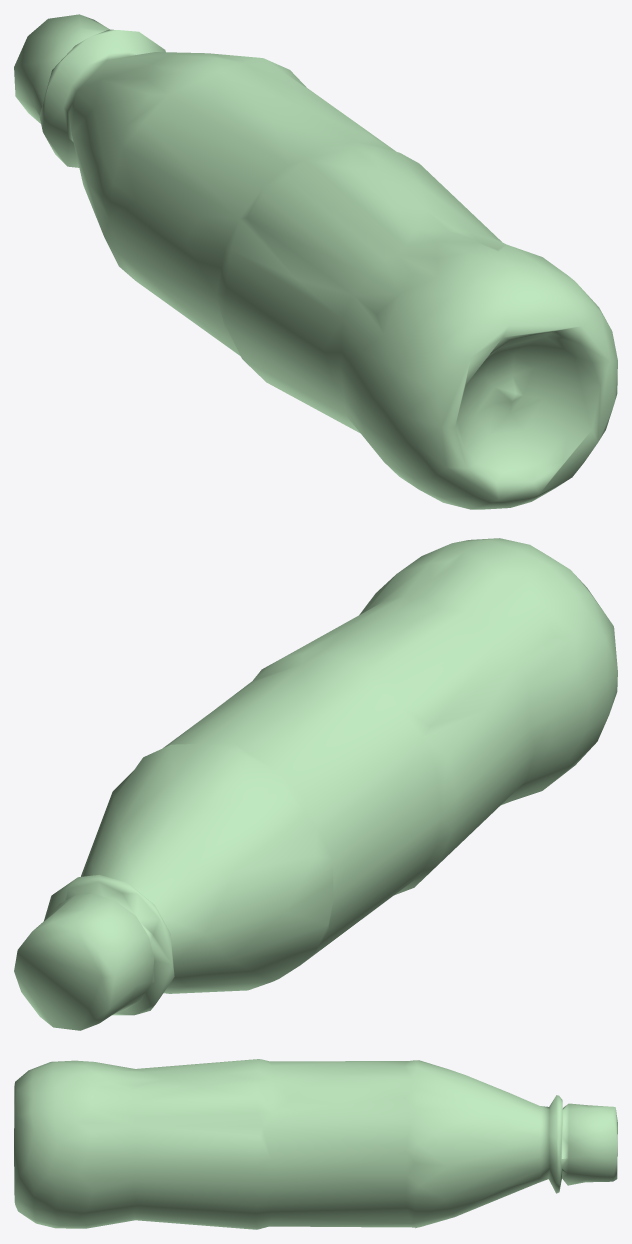
File: bottle4_0.dae
The picture shows the model from 3 angles, top to bottom: view 1: azimuth 30°, elevation 25°; view 2: azimuth 150°, elevation 25°; view 3: azimuth 270°, elevation 25°; orthographic projection. The views are drawn at different scales.
Parts seen in each view (by area): view 1: CokePlasticSmall_800_tex_019; view 2: CokePlasticSmall_800_tex_019; view 3: CokePlasticSmall_800_tex_019.
Boxes of the visible parts, x1,y1,x2,y2 form: CokePlasticSmall_800_tex_019: [14, 14, 617, 509]; CokePlasticSmall_800_tex_019: [14, 538, 617, 1030]; CokePlasticSmall_800_tex_019: [14, 1059, 617, 1229].
Size of the model in its own units: 0.045 by 0.1583 by 0.045.
